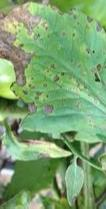Tomato leaf bacterial spot: (0, 6, 106, 145)
